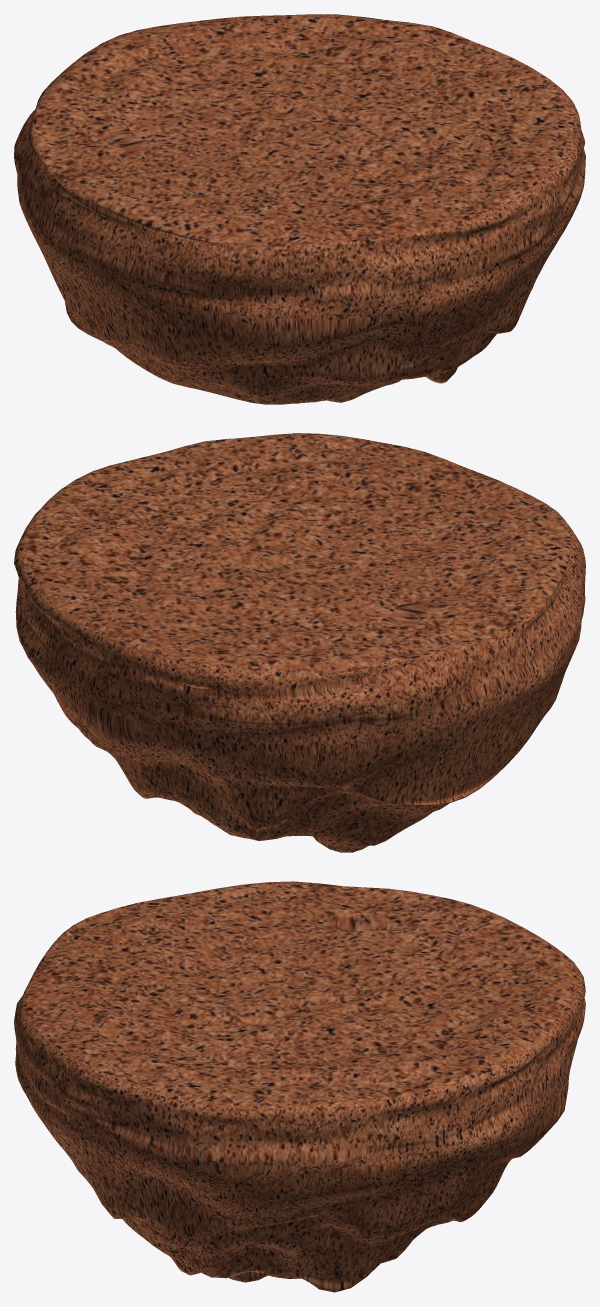
File: SafeArea.fbx
3 renders of one model, top to bottom at view 1: azimuth 30°, elevation 25°; view 2: azimuth 150°, elevation 25°; view 3: azimuth 270°, elevation 25°, orthographic. The views are drawn at different scales.
Visible parts, largest first — view 1: Cylinder001; view 2: Cylinder001; view 3: Cylinder001.
Boxes of the visible parts, x1,y1,x2,y2 form: Cylinder001: [14, 14, 585, 404]; Cylinder001: [14, 433, 585, 852]; Cylinder001: [14, 881, 585, 1292].
Size of the model in its own units: 79.15 by 39.98 by 79.37.
